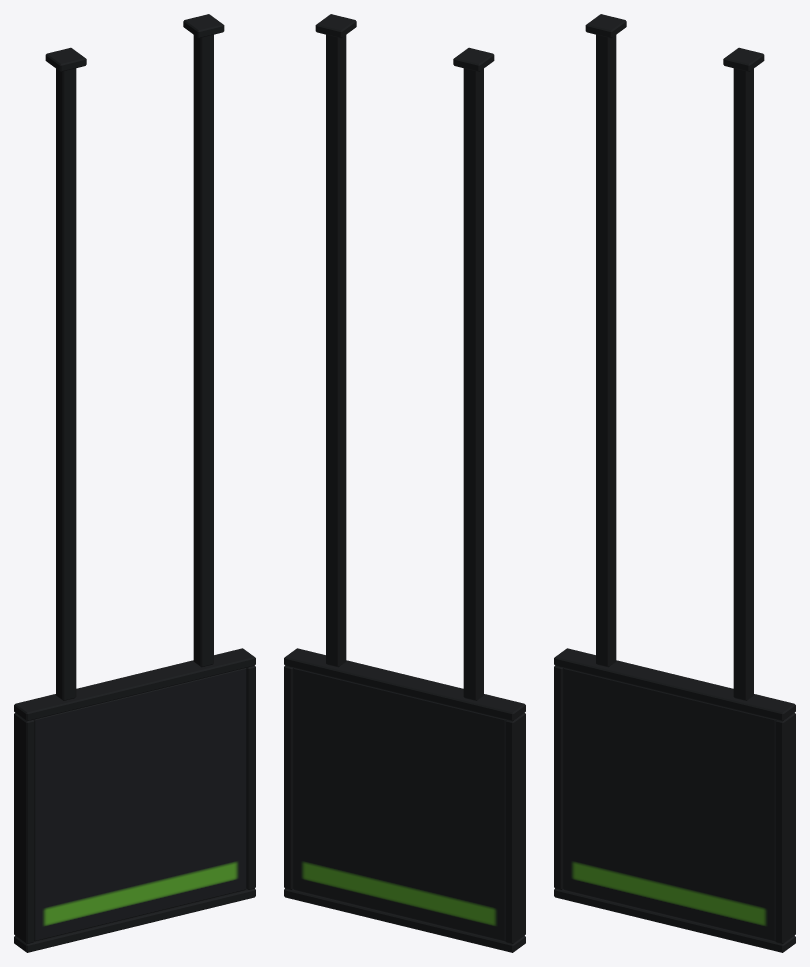
File: track_sign_hang.fbx
The picture shows the model from 3 angles, left to right: view 1: azimuth 30°, elevation 25°; view 2: azimuth 150°, elevation 25°; view 3: azimuth 330°, elevation 25°; orthographic projection.
Visible parts, largest first — view 1: track_sign_hang; view 2: track_sign_hang; view 3: track_sign_hang.
Boxes of the visible parts, x1=… form: track_sign_hang: x1=14, y1=14, x2=255, y2=952; track_sign_hang: x1=284, y1=14, x2=525, y2=952; track_sign_hang: x1=554, y1=14, x2=795, y2=952.
Bounding box in the file's own units: 0.6 × 0.07 × 2.2.
1 material, 1 textured.
